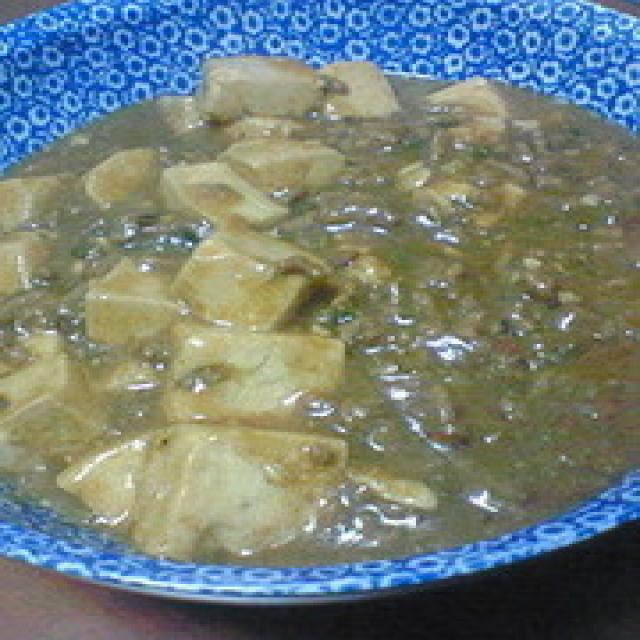豆腐料理: (0, 0, 640, 611)
